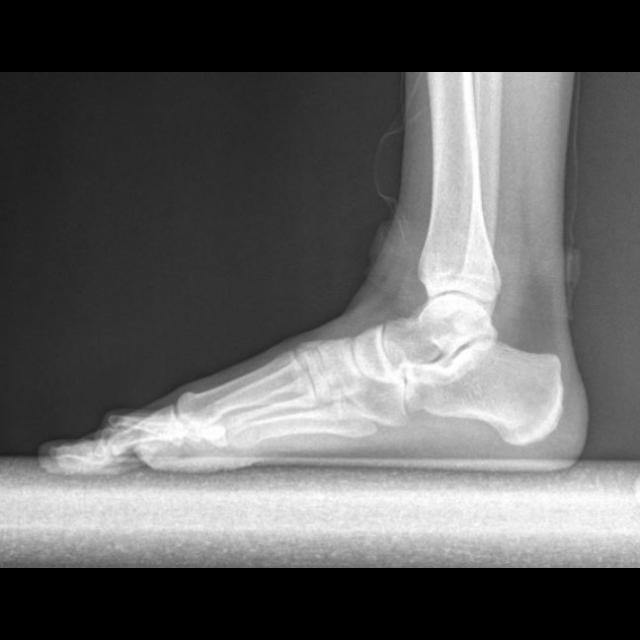a: (404, 336, 563, 446)
b: (354, 323, 400, 381)
c: (176, 351, 317, 430)
